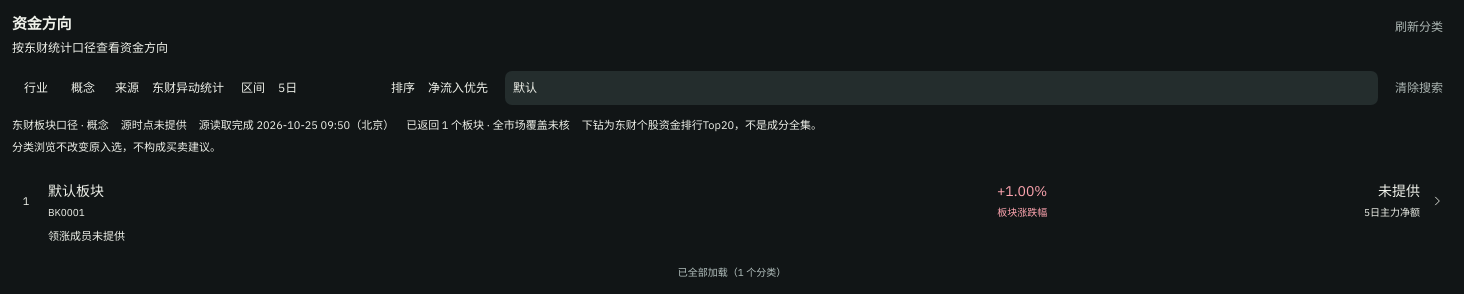
真实分类发现的来源与范围 › legacy BK deep links stay Eastmoney; changing source clears the old identity and query
This screenshot has width=1464, height=294.
expect the button with aria-label "查看默认板块资金排行" is shown: met, box [12, 178, 1452, 224]
Select "新浪资金" in the dropdown named "资金来源": (188, 88) [144, 71, 233, 105]
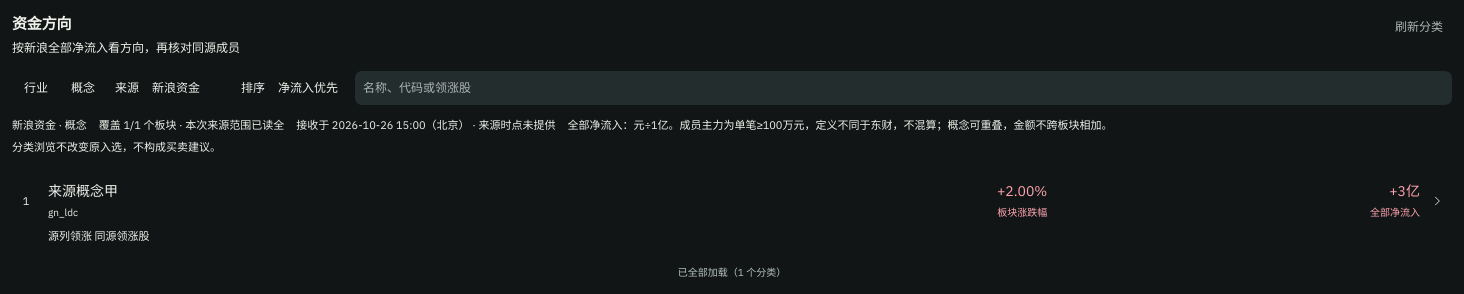
expect the button with aria-label "查看来源概念甲成分" is shown: met, box [12, 178, 1452, 224]
